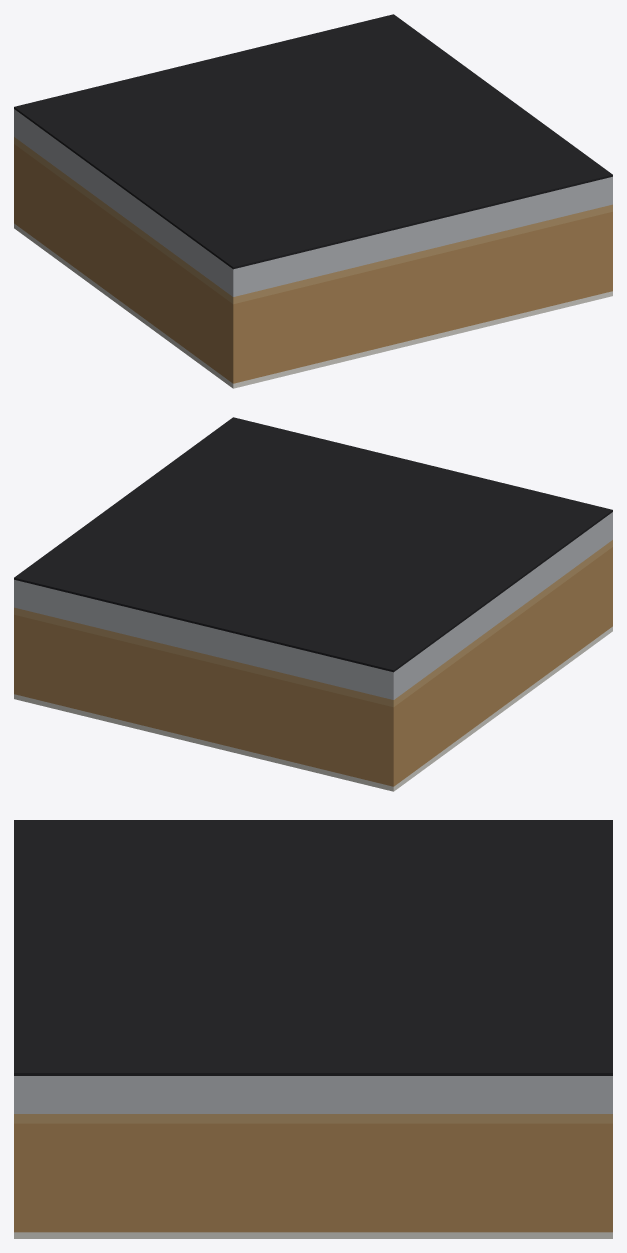
Rendered from structure.roof.roof_timber_flat.glb.
The picture shows the model from 3 angles, top to bottom: view 1: azimuth 30°, elevation 25°; view 2: azimuth 150°, elevation 25°; view 3: azimuth 270°, elevation 25°; orthographic projection. The views are drawn at different scales.
Visible parts, largest first — view 1: main__roof_felt, main__softwood, main__insulation, main__plywood, main__plasterboard; view 2: main__roof_felt, main__softwood, main__insulation, main__plywood, main__plasterboard; view 3: main__roof_felt, main__softwood, main__insulation, main__plywood, main__plasterboard.
Boxes of the visible parts, x1,y1,x2,y2 form: main__roof_felt: [14, 14, 612, 269]; main__softwood: [14, 144, 612, 383]; main__insulation: [14, 109, 612, 296]; main__plywood: [14, 137, 612, 304]; main__plasterboard: [14, 223, 612, 388]; main__roof_felt: [14, 417, 612, 672]; main__softwood: [14, 547, 612, 786]; main__insulation: [14, 512, 612, 699]; main__plywood: [14, 540, 612, 707]; main__plasterboard: [14, 626, 612, 791]; main__roof_felt: [14, 820, 612, 1075]; main__softwood: [14, 1123, 612, 1232]; main__insulation: [14, 1076, 612, 1113]; main__plywood: [14, 1114, 612, 1123]; main__plasterboard: [14, 1232, 612, 1238].
Size of the model in its own units: 1 by 0.3055 by 1.
